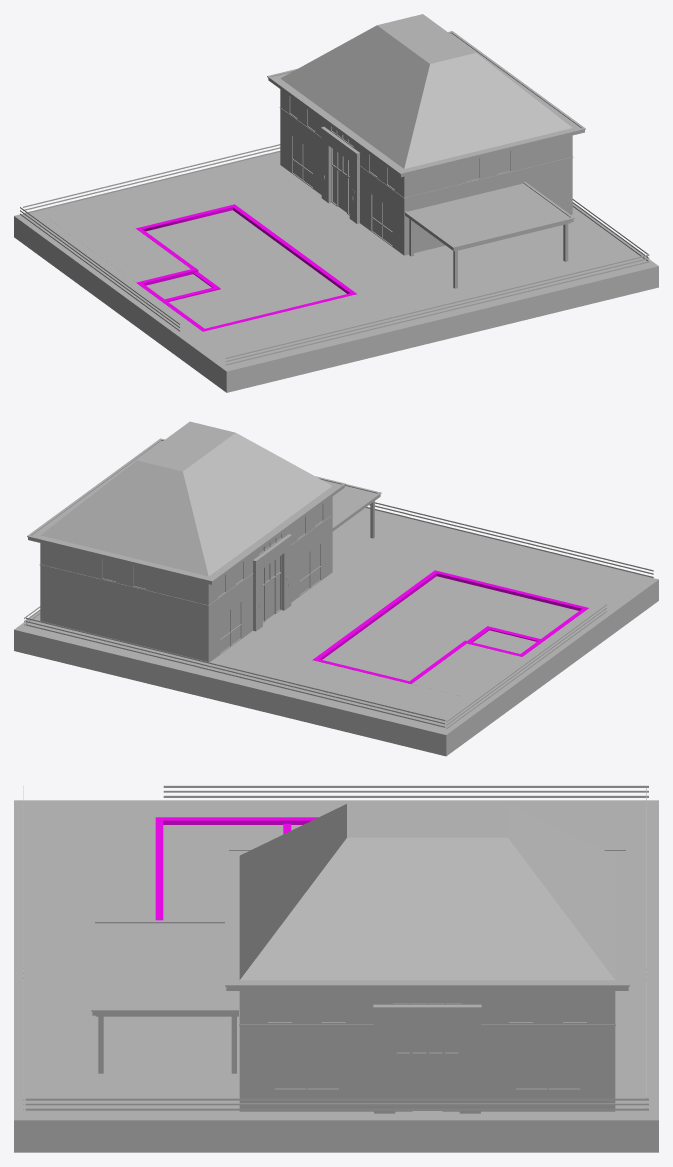
File: House.fbx
3 views of the same model, one above another, from view 1: azimuth 30°, elevation 25°; view 2: azimuth 150°, elevation 25°; view 3: azimuth 270°, elevation 25° (orthographic). The views are drawn at different scales.
Visible parts, largest first — view 1: House; view 2: House; view 3: House.
Boxes of the visible parts, box(x1,y1,x2,y2) form: House: box(14, 14, 658, 392); House: box(14, 421, 658, 756); House: box(14, 785, 658, 1152).
Bounding box in the file's own units: 2821 × 1073 × 2405.
